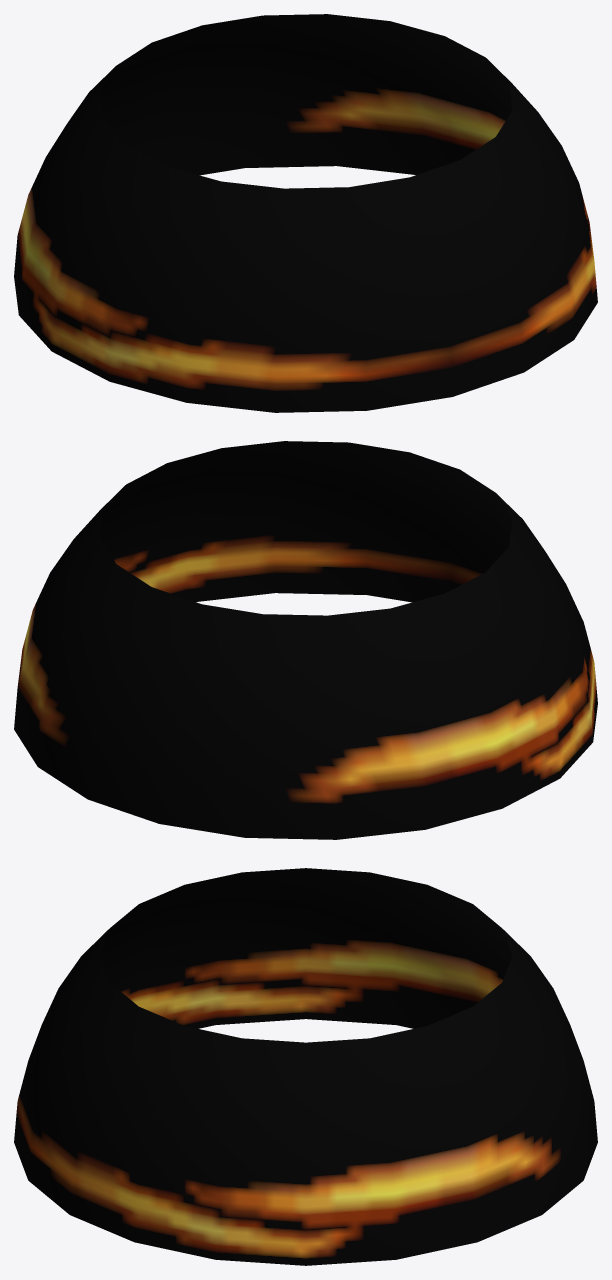
Rendered from anotherOuterPillar.fbx.
The picture shows the model from 3 angles, top to bottom: view 1: azimuth 30°, elevation 25°; view 2: azimuth 150°, elevation 25°; view 3: azimuth 270°, elevation 25°; orthographic projection.
Parts seen in each view (by area): view 1: hellpillarLoadOut2; view 2: hellpillarLoadOut2; view 3: hellpillarLoadOut2.
Boxes of the visible parts, x1,y1,x2,y2 form: hellpillarLoadOut2: (14,14,597,412); hellpillarLoadOut2: (14,441,597,839); hellpillarLoadOut2: (14,868,597,1265).
Size of the model in its own units: 2 by 0.7071 by 2.
